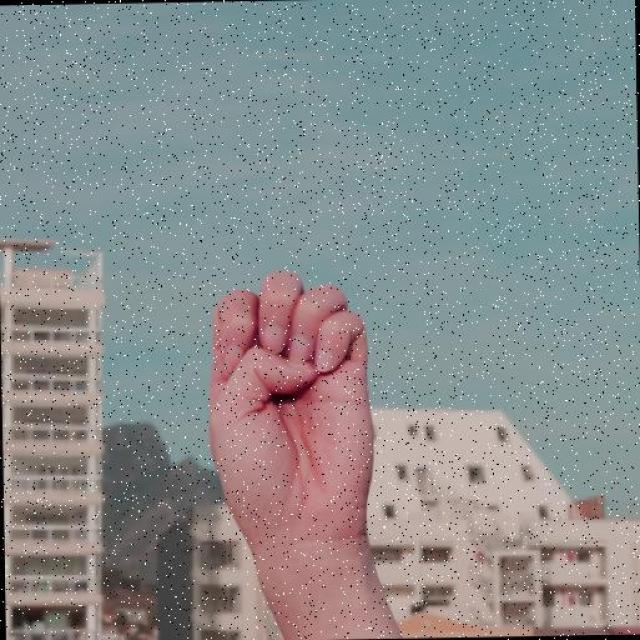E: (200, 264, 381, 554)
